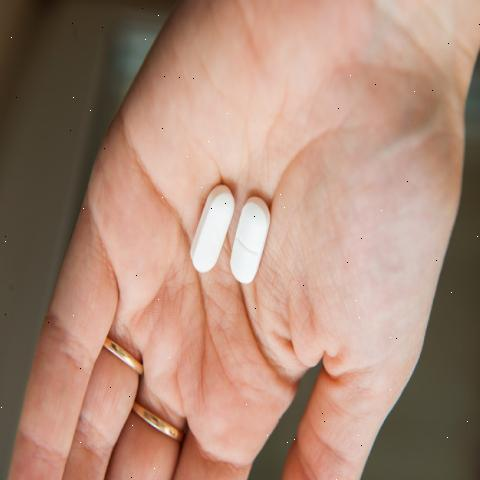Pill: (228, 178, 280, 308), (172, 178, 231, 285)
